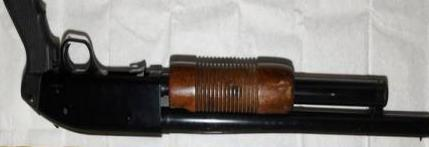gun: (1, 1, 429, 147)
